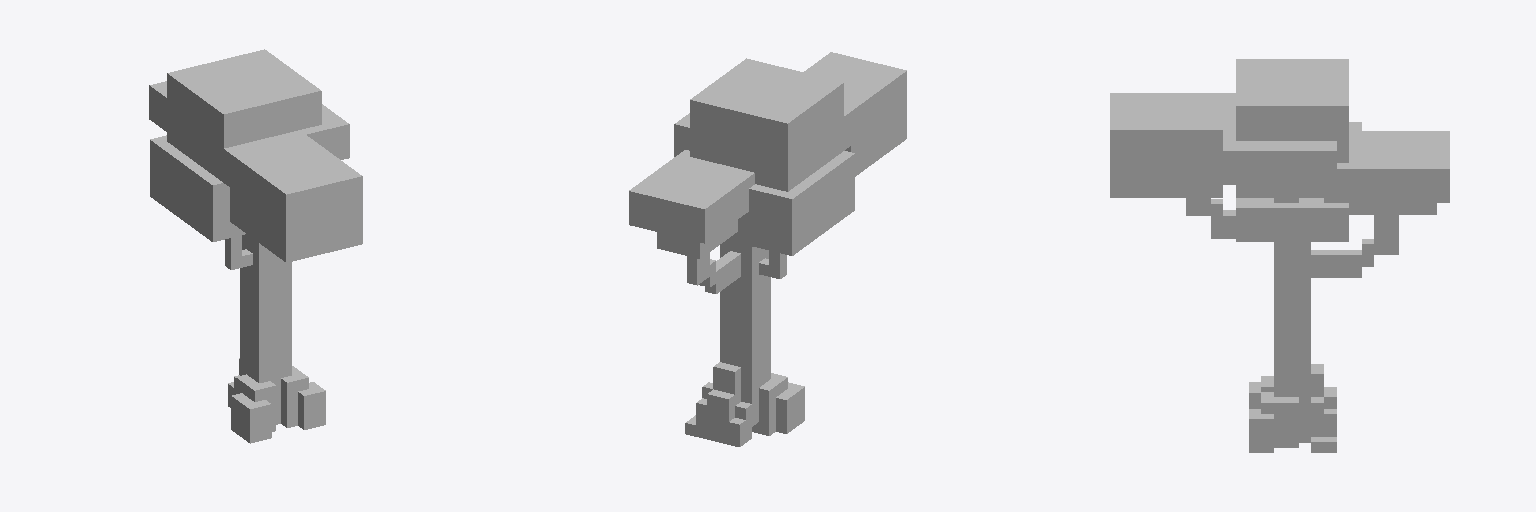
The model's file is tree01.obj.
3 views of the same model, side by side, from view 1: azimuth 30°, elevation 25°; view 2: azimuth 150°, elevation 25°; view 3: azimuth 270°, elevation 25° (orthographic).
Parts seen in each view (by area): view 1: tree01; view 2: tree01; view 3: tree01.
Part boxes in pixels (x1,y1,x2,y2): tree01: (149, 49, 362, 443); tree01: (629, 52, 906, 446); tree01: (1110, 59, 1449, 452).
Bounding box in the file's own units: 12 × 30 × 27.